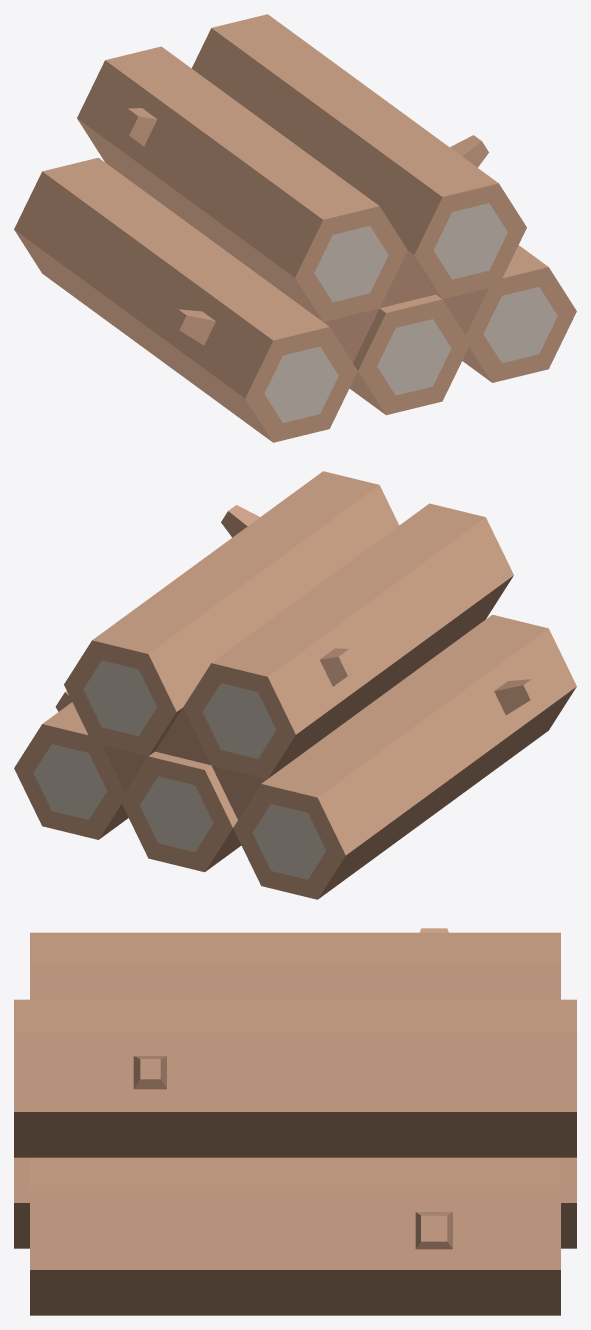
Rendered from log_stackLarge.glb.
The picture shows the model from 3 angles, top to bottom: view 1: azimuth 30°, elevation 25°; view 2: azimuth 150°, elevation 25°; view 3: azimuth 270°, elevation 25°; orthographic projection. The views are drawn at different scales.
Visible parts, largest first — view 1: log_stackLarge; view 2: log_stackLarge; view 3: log_stackLarge.
Boxes of the visible parts, x1=… form: log_stackLarge: x1=14, y1=14, x2=576, y2=442; log_stackLarge: x1=14, y1=471, x2=576, y2=899; log_stackLarge: x1=14, y1=928, x2=576, y2=1315.
Bounding box in the file's own units: 0.634 × 0.3464 × 0.71.
